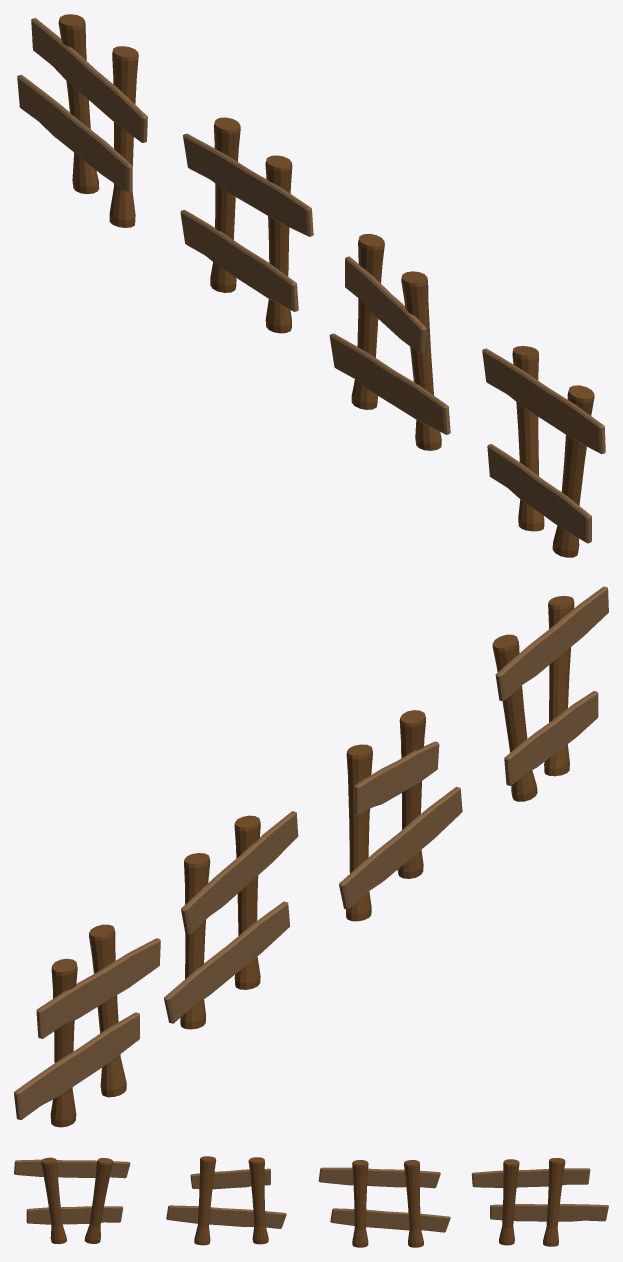
File: fences.fbx
The picture shows the model from 3 angles, top to bottom: view 1: azimuth 30°, elevation 25°; view 2: azimuth 150°, elevation 25°; view 3: azimuth 270°, elevation 25°; orthographic projection. The views are drawn at different scales.
Parts seen in each view (by area): view 1: fence_posts.001, fence_posts.002, fence_posts.003, fence_posts; view 2: fence_posts.002, fence_posts.001, fence_posts, fence_posts.003; view 3: fence_posts.001, fence_posts.002, fence_posts.003, fence_posts.
Boxes of the visible parts, left/top/right/bottom form: fence_posts.001: left=180, top=117, right=313, bottom=333; fence_posts.002: left=17, top=14, right=147, bottom=227; fence_posts.003: left=482, top=346, right=605, bottom=557; fence_posts: left=329, top=233, right=450, bottom=450; fence_posts.002: left=14, top=924, right=160, bottom=1127; fence_posts.001: left=164, top=811, right=298, bottom=1029; fence_posts: left=339, top=710, right=462, bottom=921; fence_posts.003: left=492, top=586, right=608, bottom=801; fence_posts.001: left=318, top=1160, right=450, bottom=1247; fence_posts.002: left=471, top=1158, right=608, bottom=1246; fence_posts.003: left=14, top=1157, right=130, bottom=1243; fence_posts: left=166, top=1156, right=286, bottom=1245.
Bounding box in the file's own units: 329 × 1288 × 8318.
